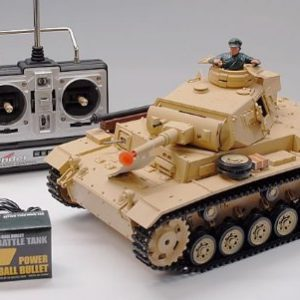Battle Tank: (94, 88, 300, 251)
